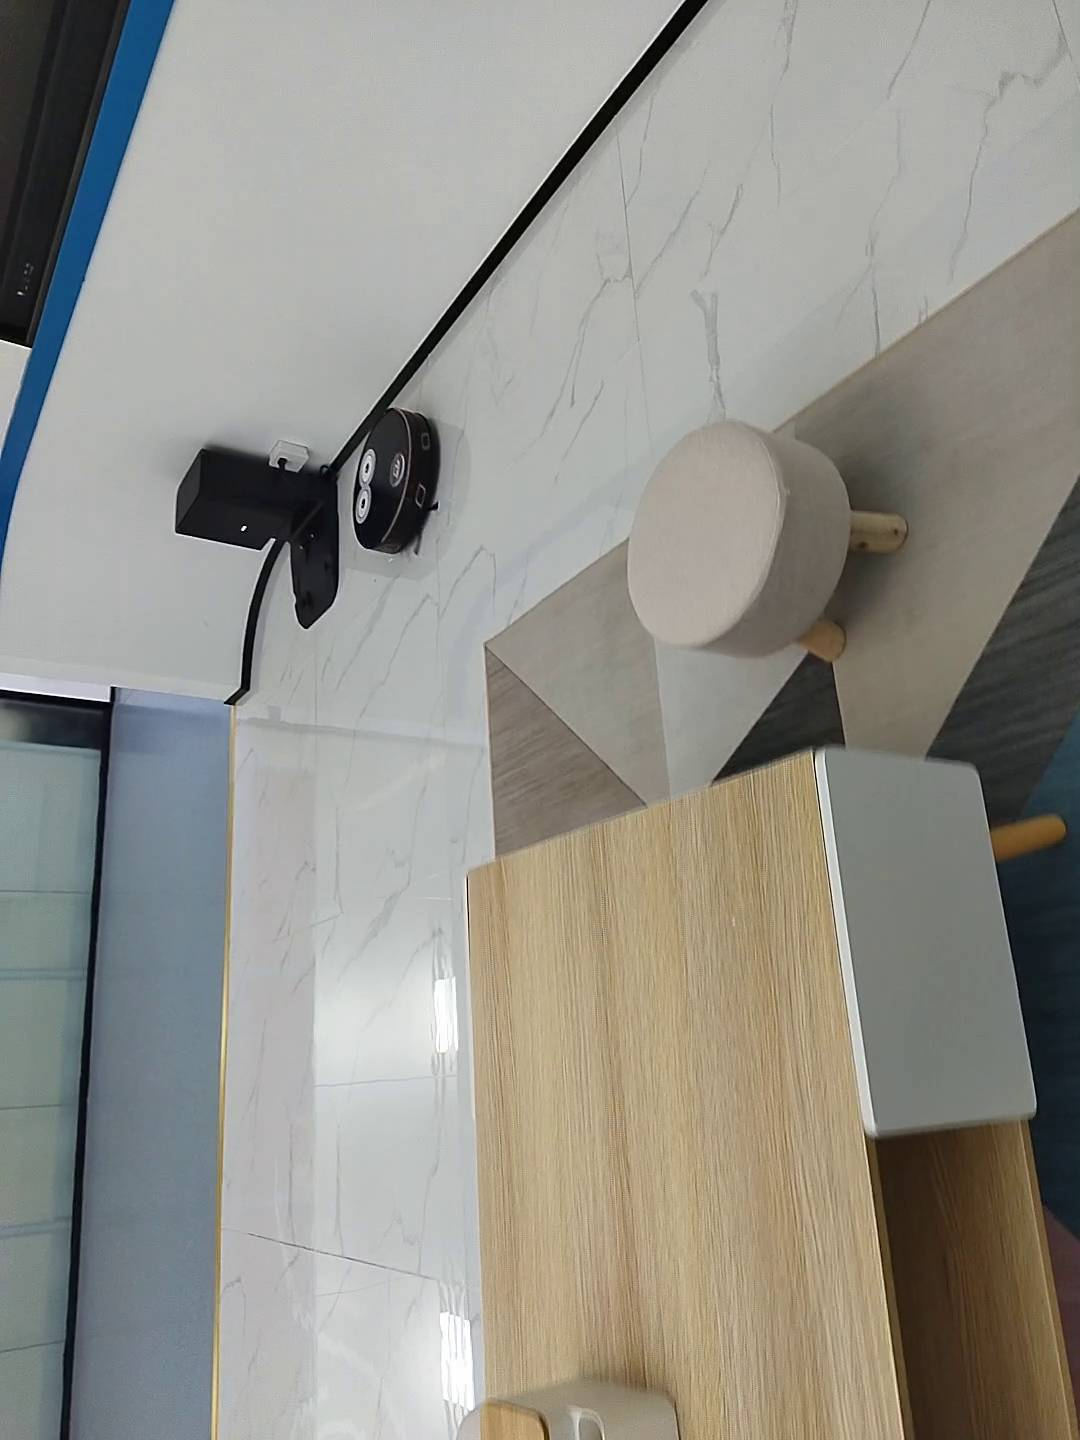dust collecting barrel: (172, 446, 341, 630)
